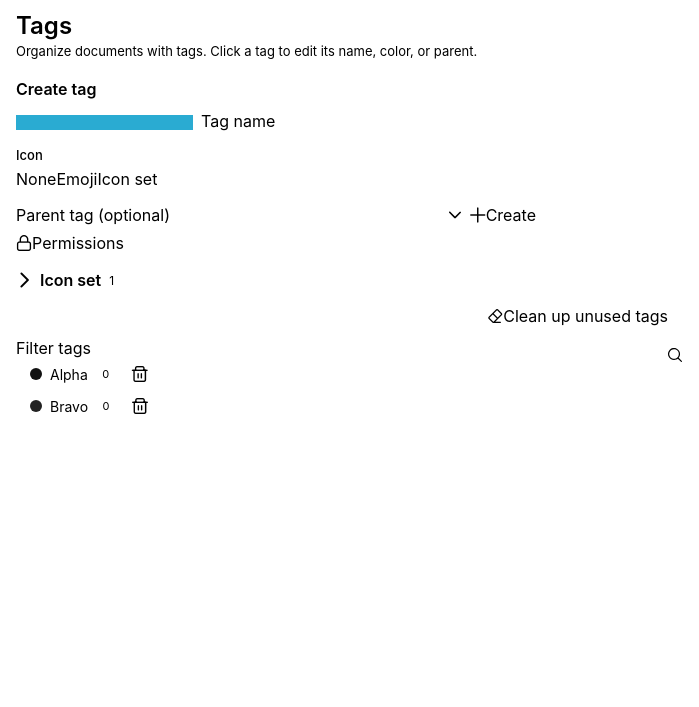
TagList — reaching the permissions section while creating (#306) › carries the name already typed into the compact row over to the full form
Type "Insurance 2026" into the field with placeholder "Tag name" at {"x": 368, "y": 121}, box [201,111,536,131]
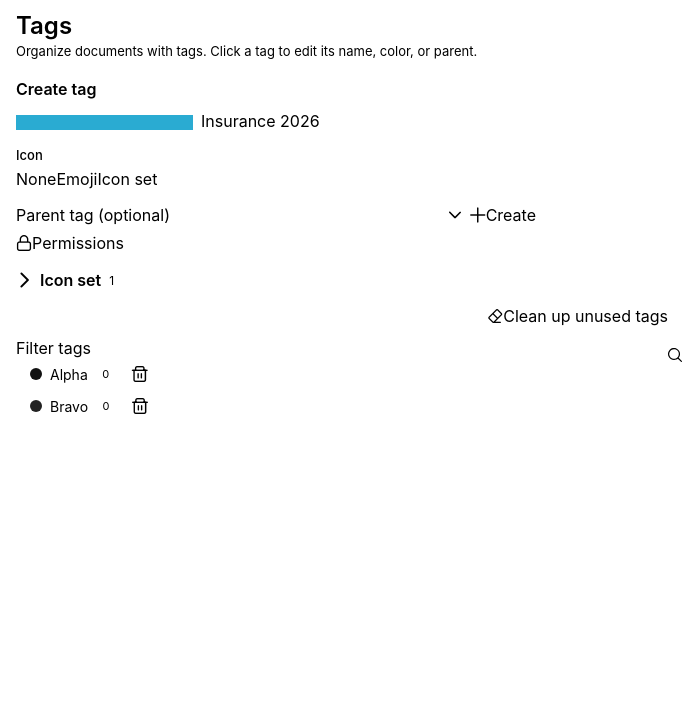
Click the button with class "tag-new-permissions-btn" at {"x": 70, "y": 243}, box [16,233,124,253]
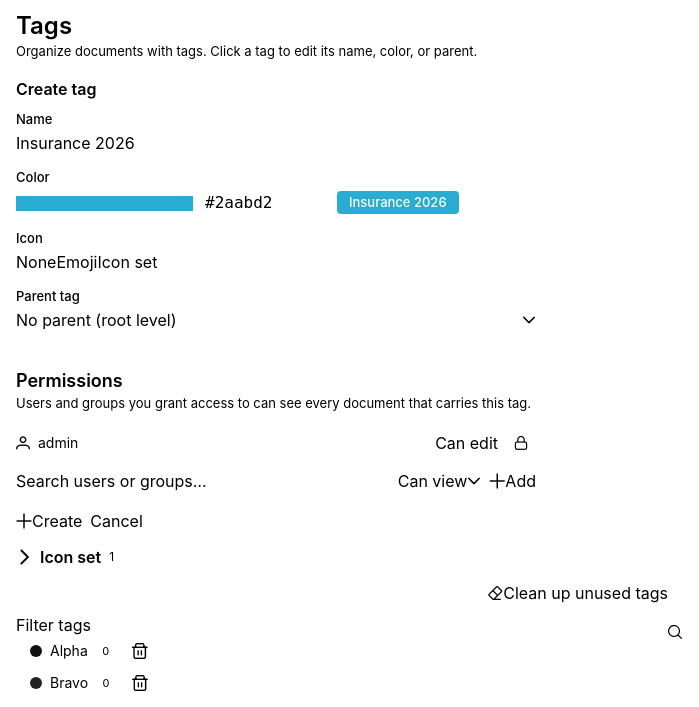
Expected: the text "Insurance 2026" is shown, [337,191,459,214]
